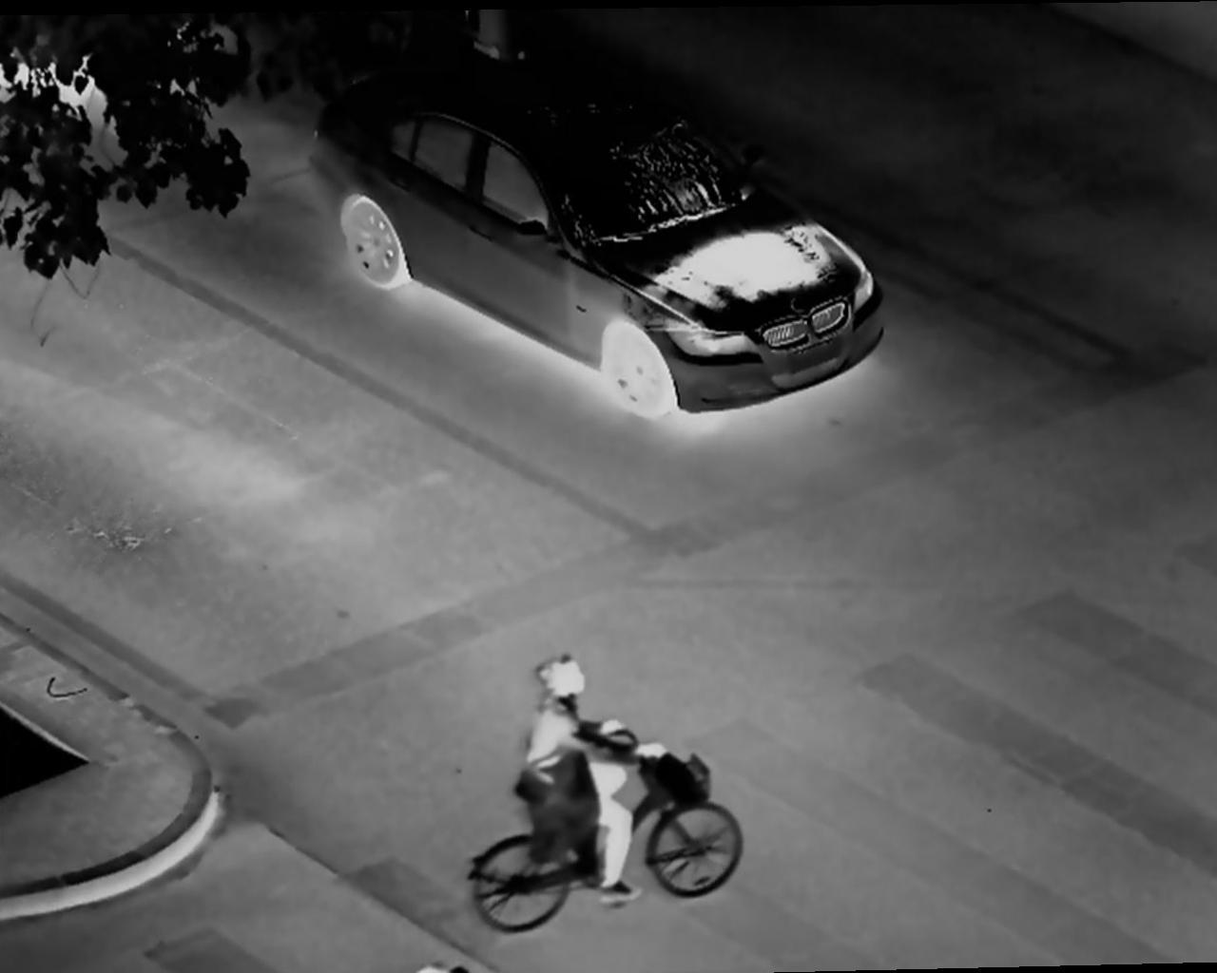person: (517, 647, 660, 916)
